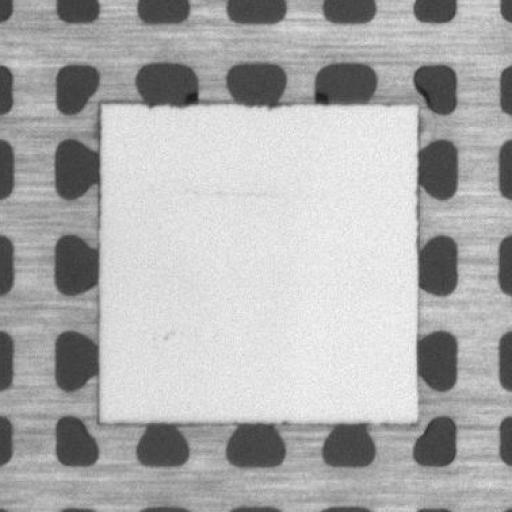DIE_CRACK: (179, 181, 284, 203)
DIE_INK: (158, 327, 174, 344)
